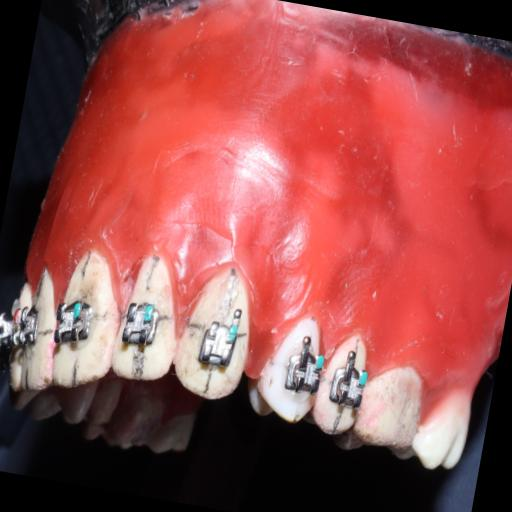incorrect_brace: (109, 250, 189, 388), (194, 312, 241, 377), (120, 296, 164, 348)
